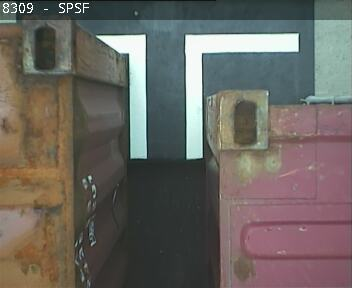groundmarker_1: (95, 33, 299, 158)
